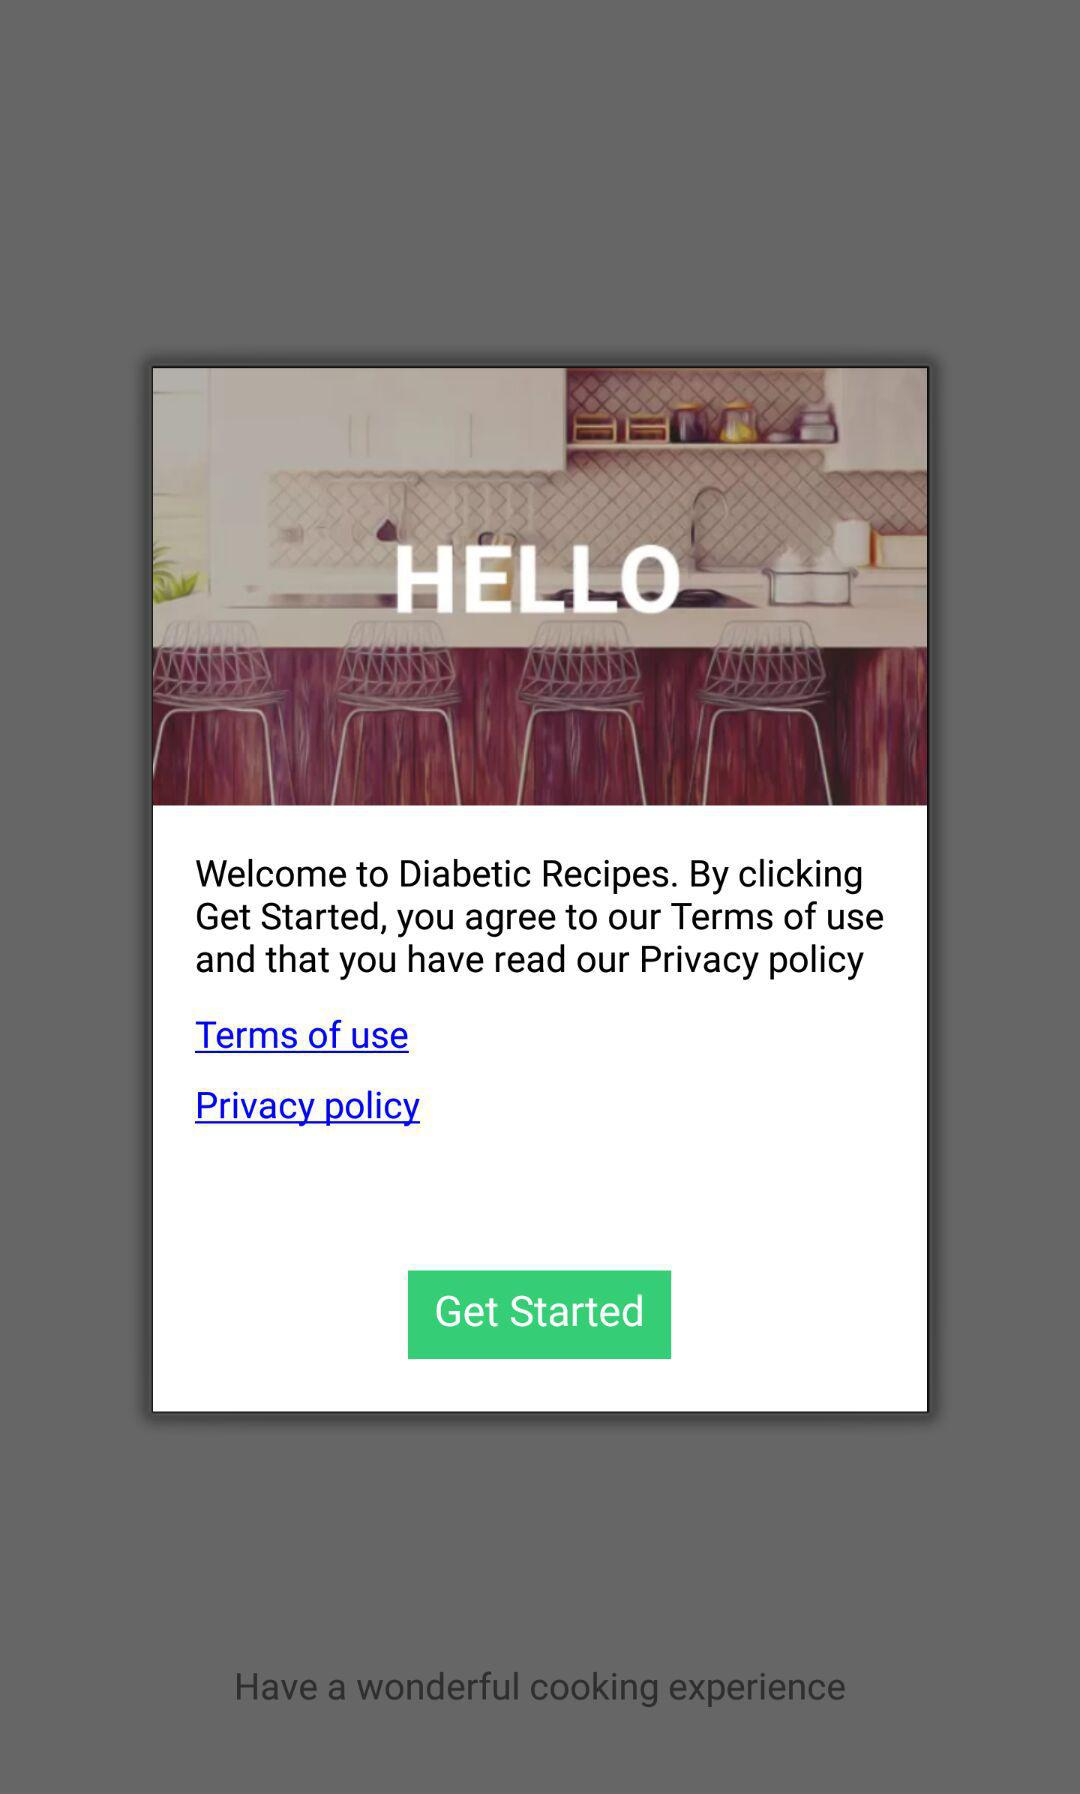Image: (154, 369, 928, 806)
Modal: (152, 366, 929, 1413)
Text: (197, 859, 884, 980), (397, 546, 682, 614), (195, 1090, 421, 1126), (193, 1023, 411, 1055)
TextButton: (407, 1270, 673, 1360)
